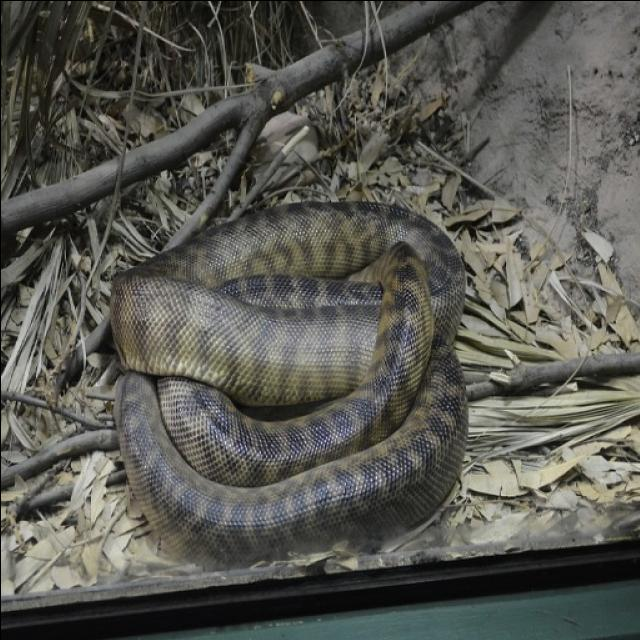snake: (70, 135, 486, 573)
